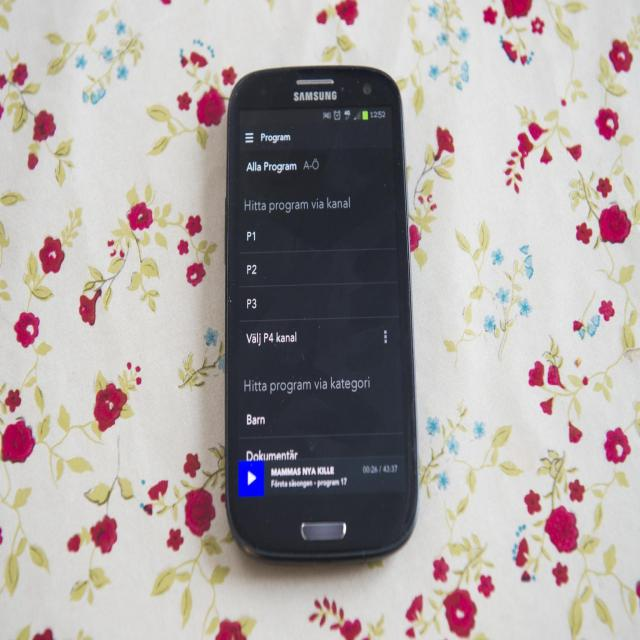Phone: (222, 66, 418, 561)
